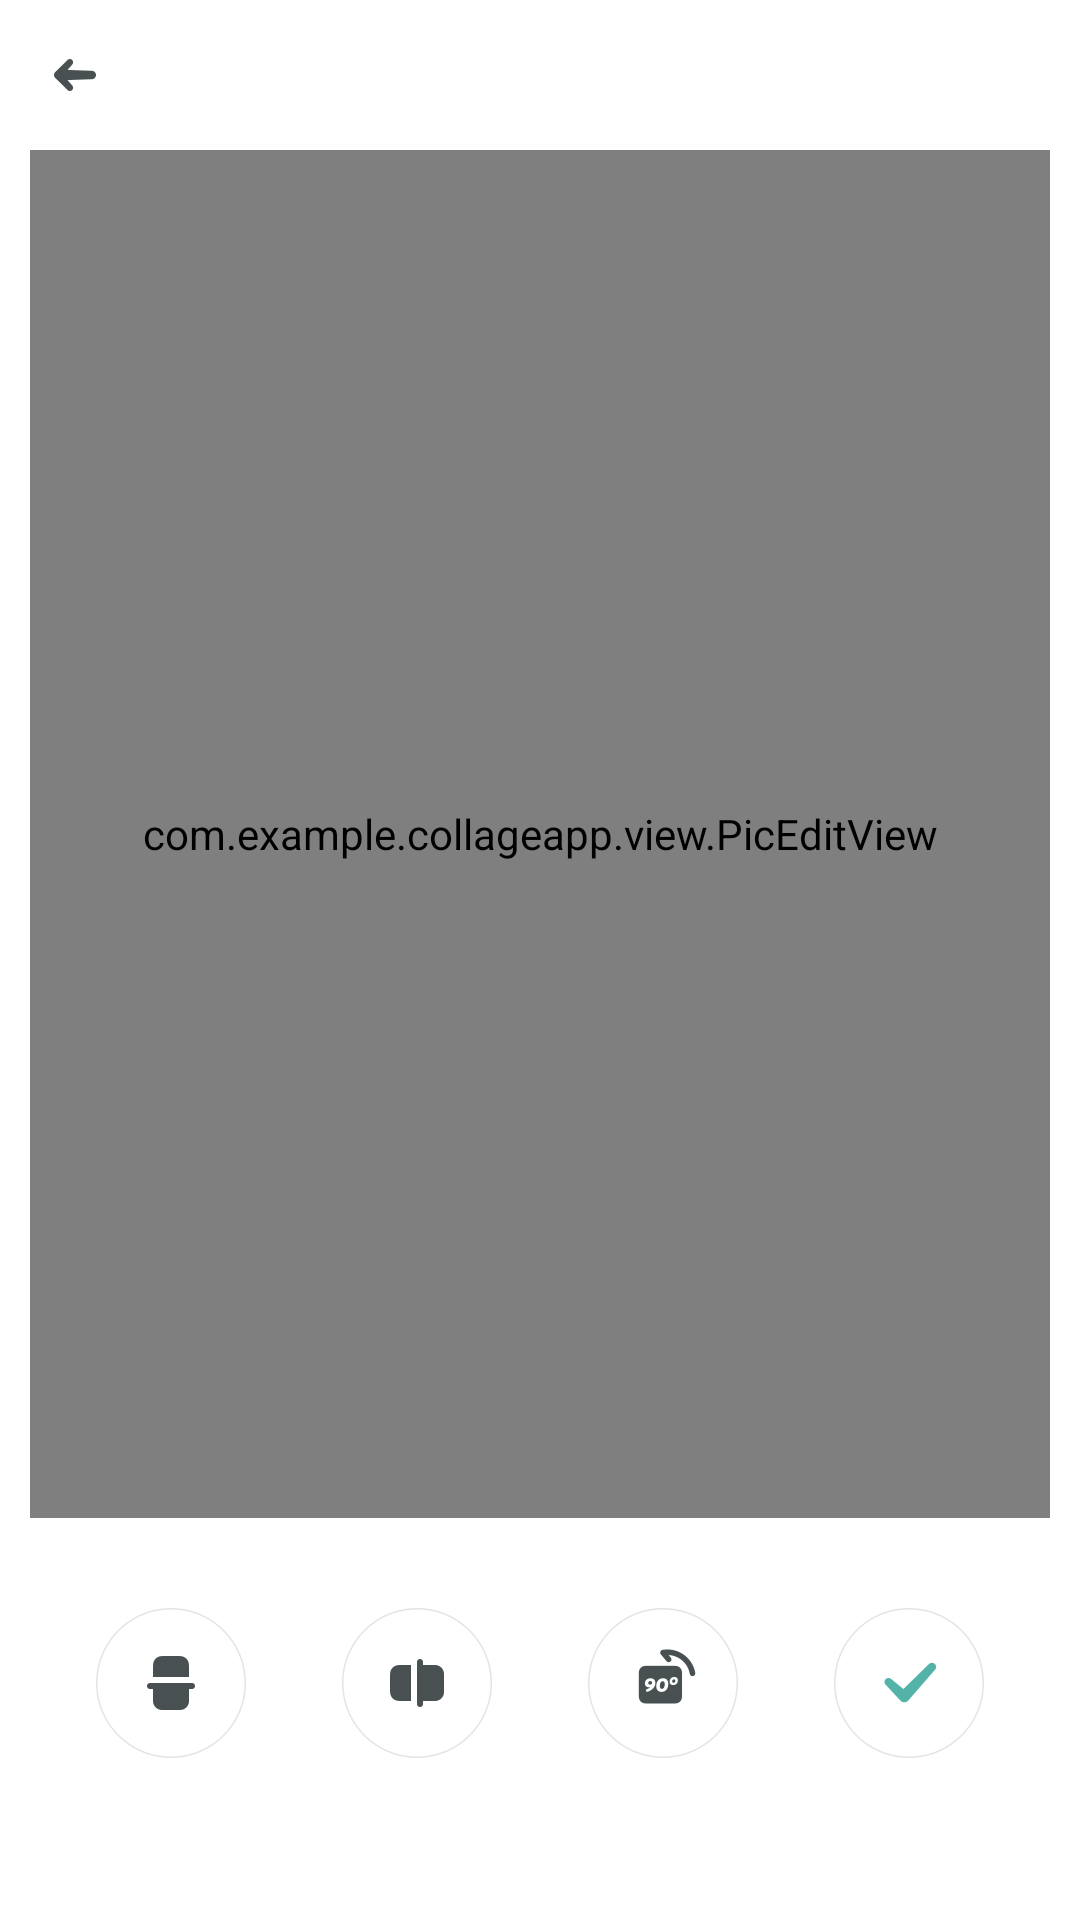

Icons on this 1080×1920 Android screen, each with the point to tap as (x=x, y=y):
back: (x=75, y=75)
pic edit flip: (x=171, y=1683)
pic edit mirror: (x=417, y=1683)
pic edit ok: (x=909, y=1683)
pic edit raotate: (x=663, y=1683)
